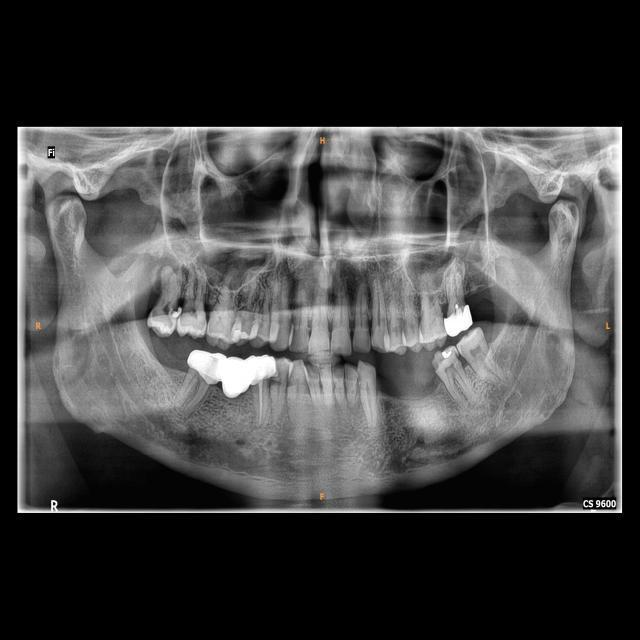dentin-curugu: (428, 350, 449, 370)
dolgu: (440, 349, 456, 361)
kanal-tedavisi: (253, 382, 267, 422)
kaplama: (185, 346, 225, 382), (250, 353, 280, 384), (441, 307, 474, 334)
kopru: (208, 352, 260, 400)
